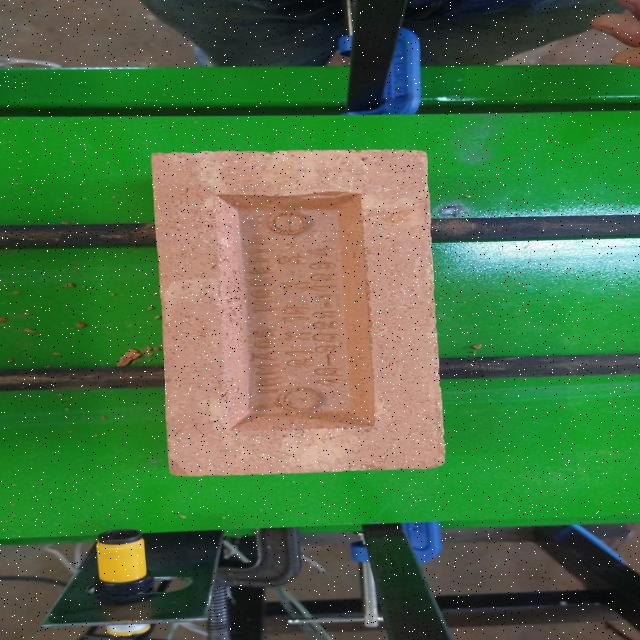bricks: (148, 148, 446, 475)
